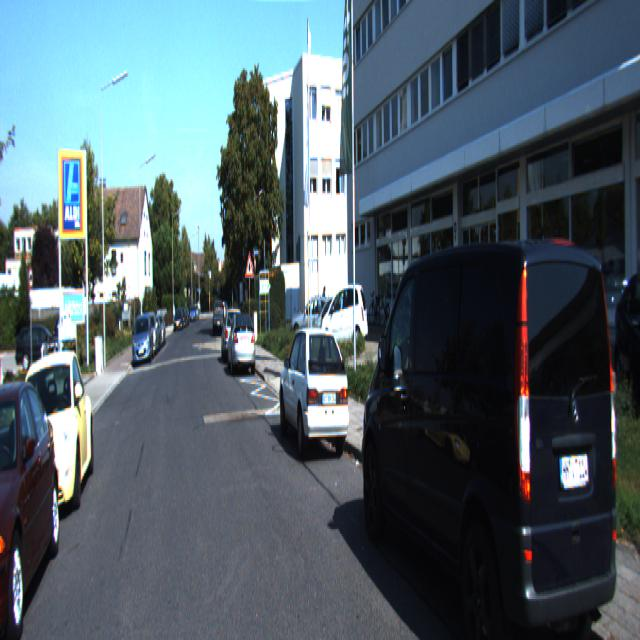Car: (357, 206, 633, 638), (0, 344, 95, 533), (520, 268, 614, 439), (278, 322, 352, 466), (612, 261, 640, 423), (317, 282, 369, 355), (227, 312, 256, 376), (129, 314, 152, 364), (210, 299, 223, 336)
